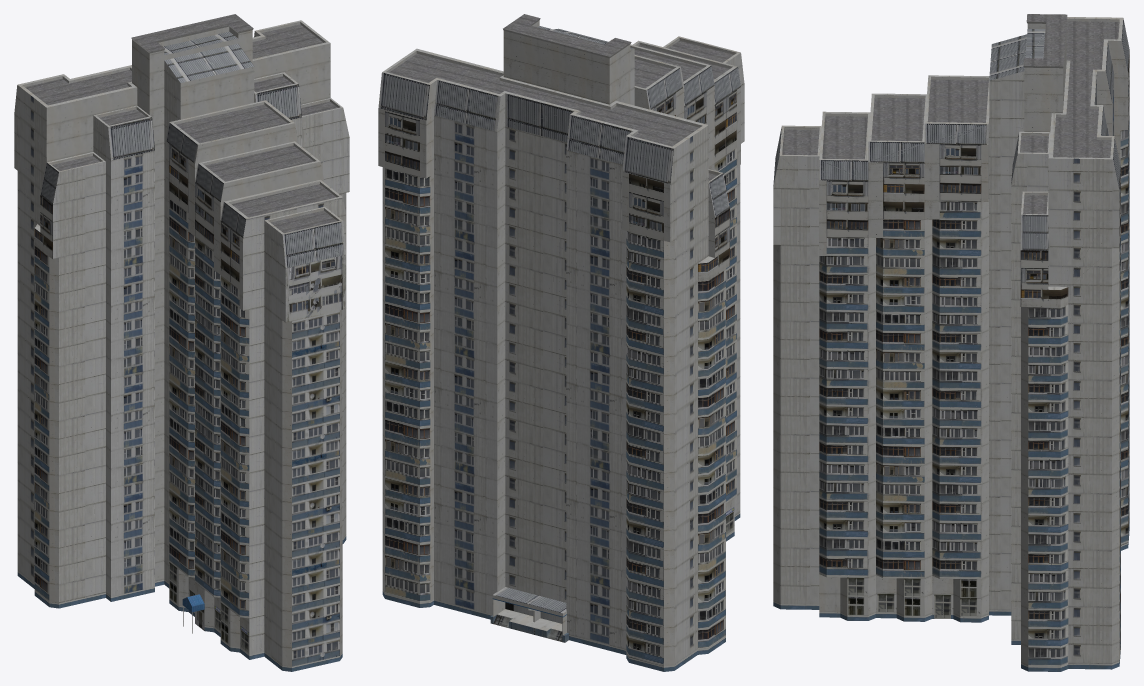
File: highrisebuild.glb
3 views of the same model, side by side, from view 1: azimuth 30°, elevation 25°; view 2: azimuth 150°, elevation 25°; view 3: azimuth 270°, elevation 25° (orthographic). The views are drawn at different scales.
Parts seen in each view (by area): view 1: balashikha9/28_0; view 2: balashikha9/28_0; view 3: balashikha9/28_0.
Boxes of the visible parts, x1,y1,x2,y2 form: balashikha9/28_0: [14, 14, 349, 671]; balashikha9/28_0: [378, 14, 744, 671]; balashikha9/28_0: [773, 14, 1129, 671].
Bounding box in the file's own units: 47.16 × 82.6 × 47.87.
Materials: 16 (16 with a texture image).
